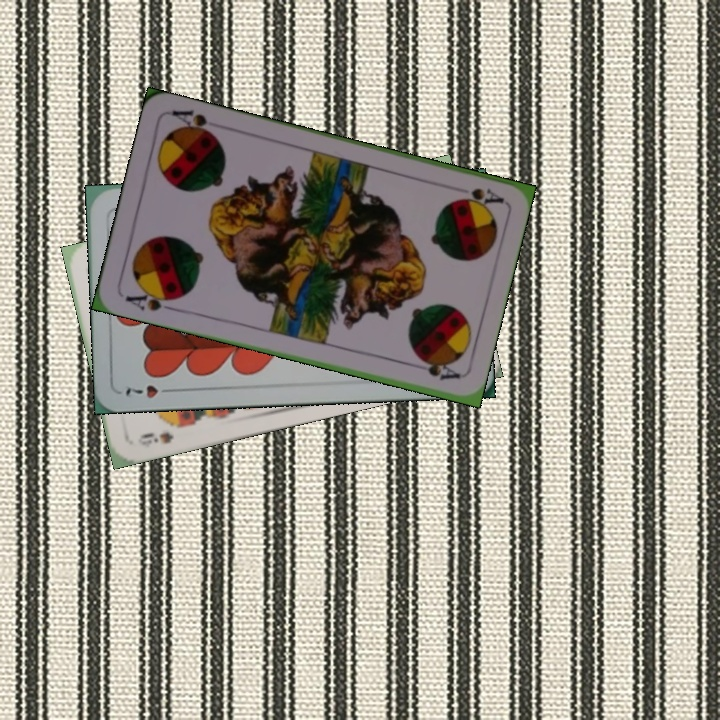H7: (122, 381, 178, 401)
S9: (133, 417, 190, 450)
SA: (121, 284, 181, 314), (452, 183, 506, 207)
